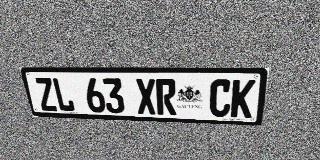3: (102, 78, 125, 113)
6: (83, 78, 106, 113)
C: (209, 79, 232, 117)
K: (230, 79, 256, 118)
L: (51, 78, 76, 112)
R: (155, 79, 176, 115)
X: (135, 78, 157, 115)
Z: (33, 78, 58, 111)
